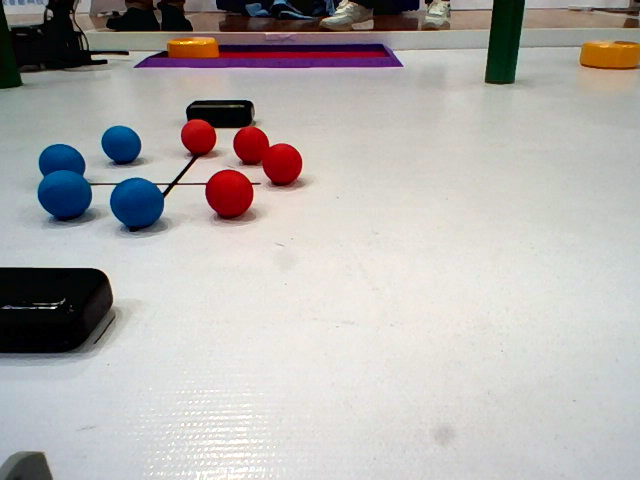black: (1, 261, 119, 349)
blue: (110, 181, 163, 229), (37, 172, 90, 216), (36, 144, 82, 180), (100, 130, 141, 164)
kuang: (131, 36, 406, 75), (575, 36, 640, 67)
red: (202, 170, 250, 218), (178, 115, 216, 155), (262, 144, 304, 180), (236, 124, 266, 159)
yellow: (161, 35, 221, 61)
zhuzi: (480, 1, 524, 83)
